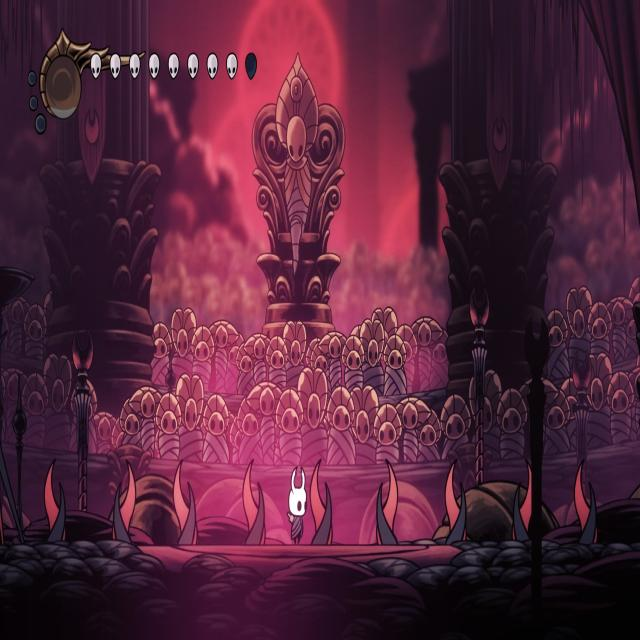Grimm: (1, 326, 23, 542)
Player: (283, 459, 310, 546)
Spikes: (172, 460, 198, 547), (574, 459, 600, 546), (310, 457, 333, 546), (442, 458, 466, 543), (375, 462, 399, 545), (240, 461, 264, 543), (45, 460, 68, 545), (114, 464, 138, 544), (514, 464, 533, 542)
